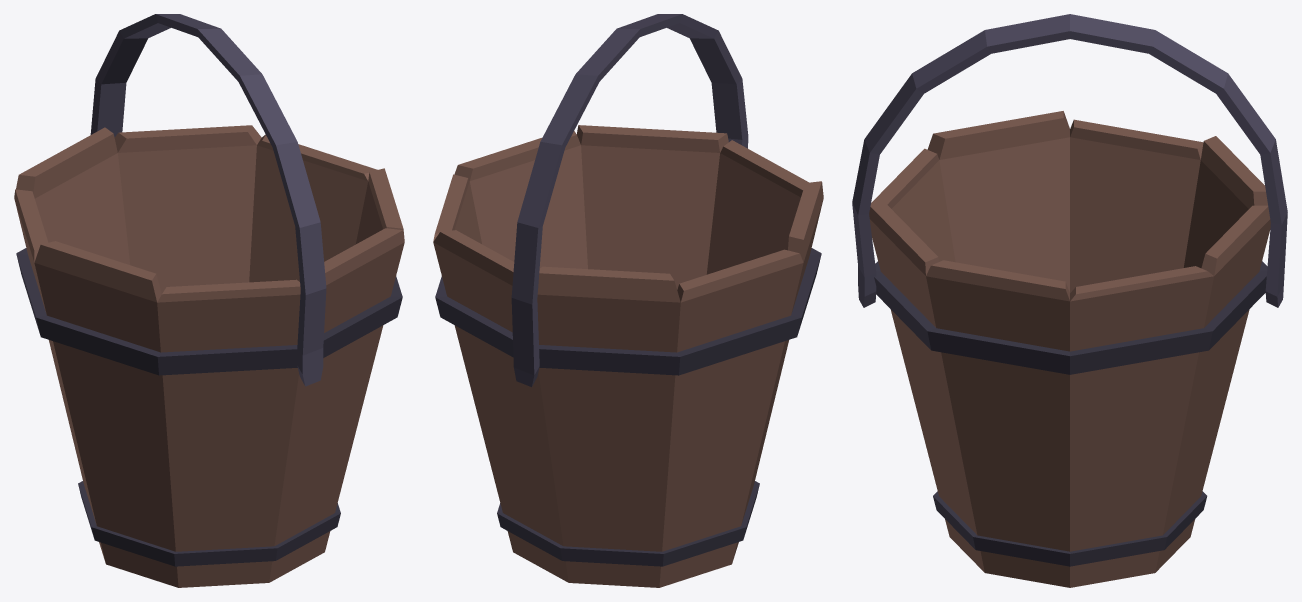
The model's file is Bucket.glb.
3 renders of one model, left to right at view 1: azimuth 30°, elevation 25°; view 2: azimuth 150°, elevation 25°; view 3: azimuth 270°, elevation 25°, orthographic.
Parts seen in each view (by area): view 1: Bucket; view 2: Bucket; view 3: Bucket.
Boxes of the visible parts, left/top/right/bottom form: Bucket: left=14, top=14, right=404, bottom=587; Bucket: left=433, top=14, right=823, bottom=587; Bucket: left=852, top=14, right=1287, bottom=587.
Size of the model in its own units: 0.3782 by 0.5294 by 0.4041.
